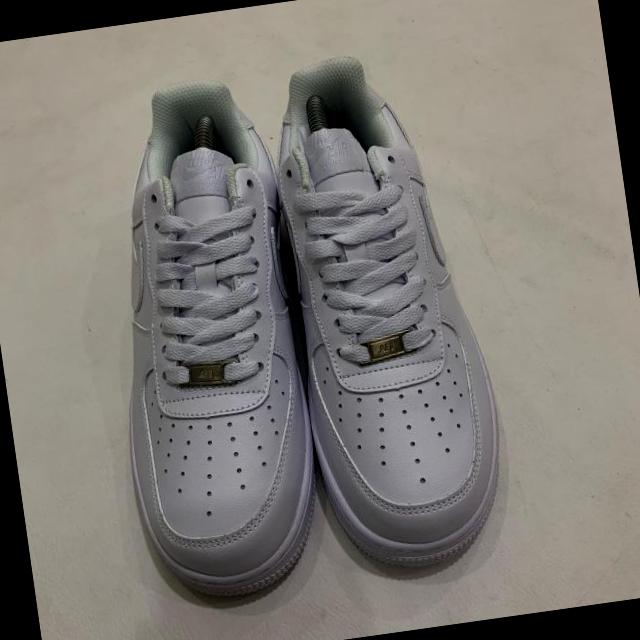nike_fake_airforce: (259, 26, 528, 583), (78, 64, 332, 616)
